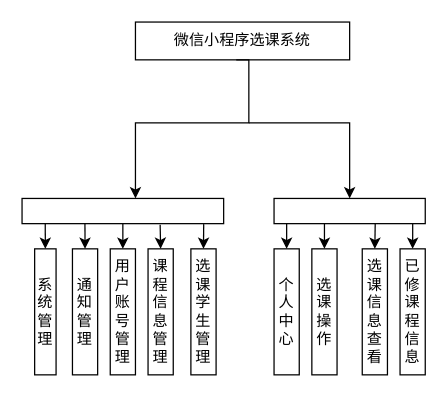
Some shapes in this 447 by 397 pixel diagram are drawn without their labels. The shapes that lost their labels are listed below. From the top down, each one's centre as x and y in pixels, then its label:
At [122,210]: "管理员模块".
At [349,210]: "用户模块".
